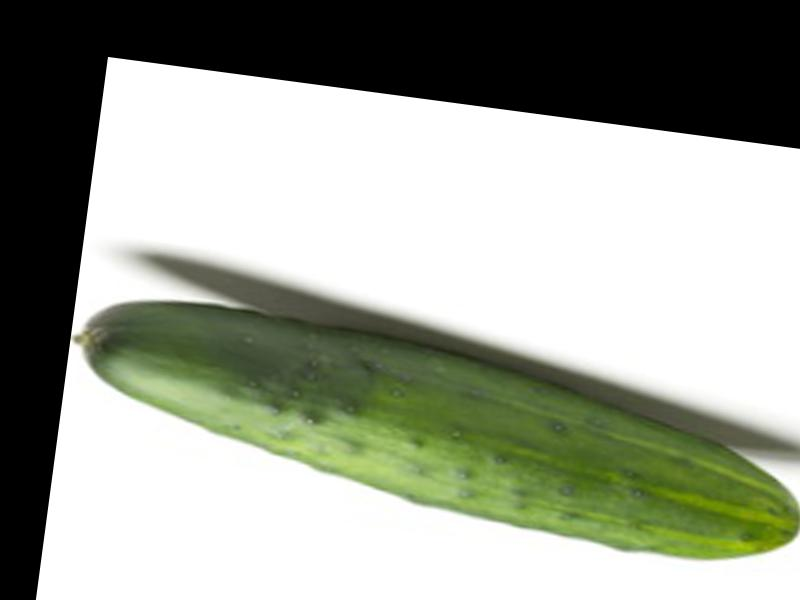Cucumber: (55, 282, 800, 573)
